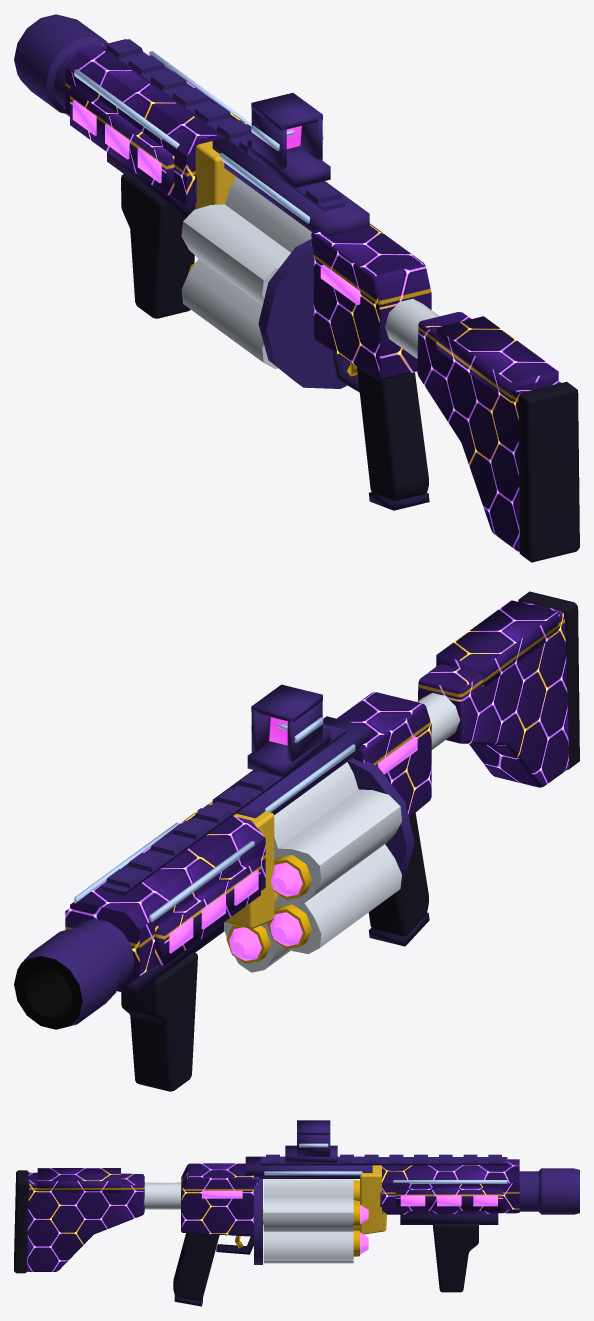
Rendered from weapon_nova_gl40.glb.
3 renders of one model, top to bottom at view 1: azimuth 30°, elevation 25°; view 2: azimuth 150°, elevation 25°; view 3: azimuth 270°, elevation 25°, orthographic. The views are drawn at different scales.
Visible parts, largest first — view 1: NovaGL40; view 2: NovaGL40; view 3: NovaGL40.
Boxes of the visible parts, left/top/right/bottom form: NovaGL40: left=14, top=14, right=579, bottom=562; NovaGL40: left=14, top=591, right=579, bottom=1091; NovaGL40: left=14, top=1120, right=579, bottom=1306.
Size of the model in its own units: 0.132 by 0.2671 by 0.7799.
Materials: 12 (1 with a texture image).
